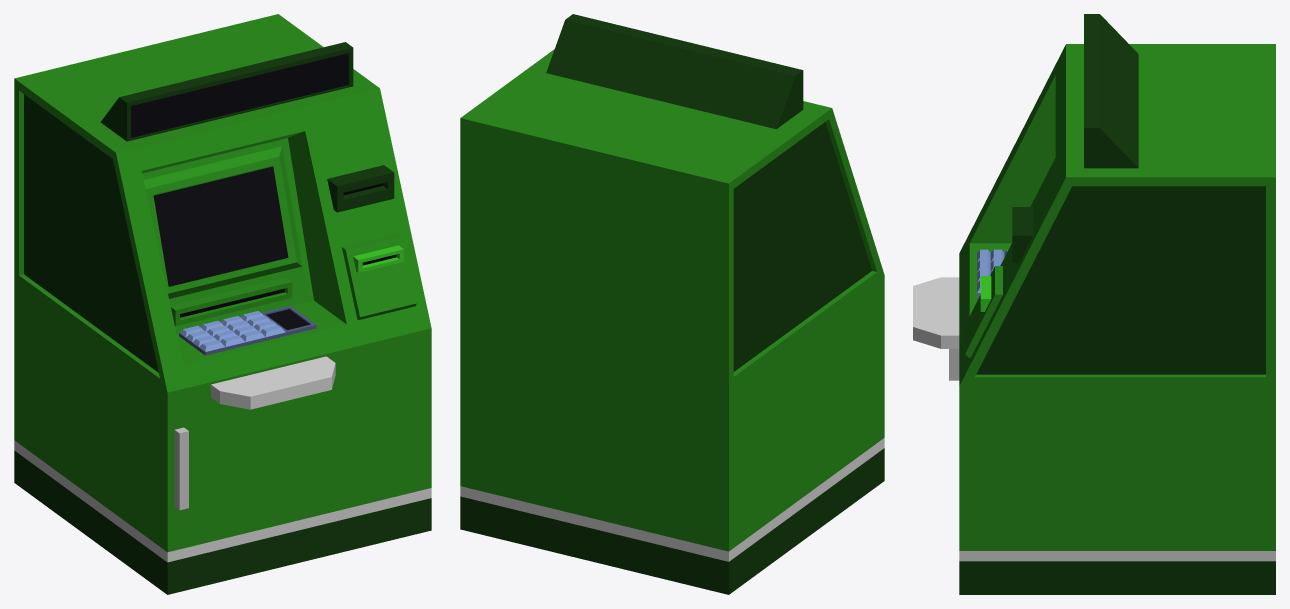
The model's file is ATM2.FBX.
3 renders of one model, left to right at view 1: azimuth 30°, elevation 25°; view 2: azimuth 150°, elevation 25°; view 3: azimuth 270°, elevation 25°, orthographic. The views are drawn at different scales.
Visible parts, largest first — view 1: ATM2; view 2: ATM2; view 3: ATM2.
Boxes of the visible parts, box(x1,y1,x2,y2) form: ATM2: box(14, 14, 431, 594); ATM2: box(460, 14, 884, 594); ATM2: box(913, 14, 1275, 594).
Bounding box in the file's own units: 9.89 × 15.86 × 11.39.
